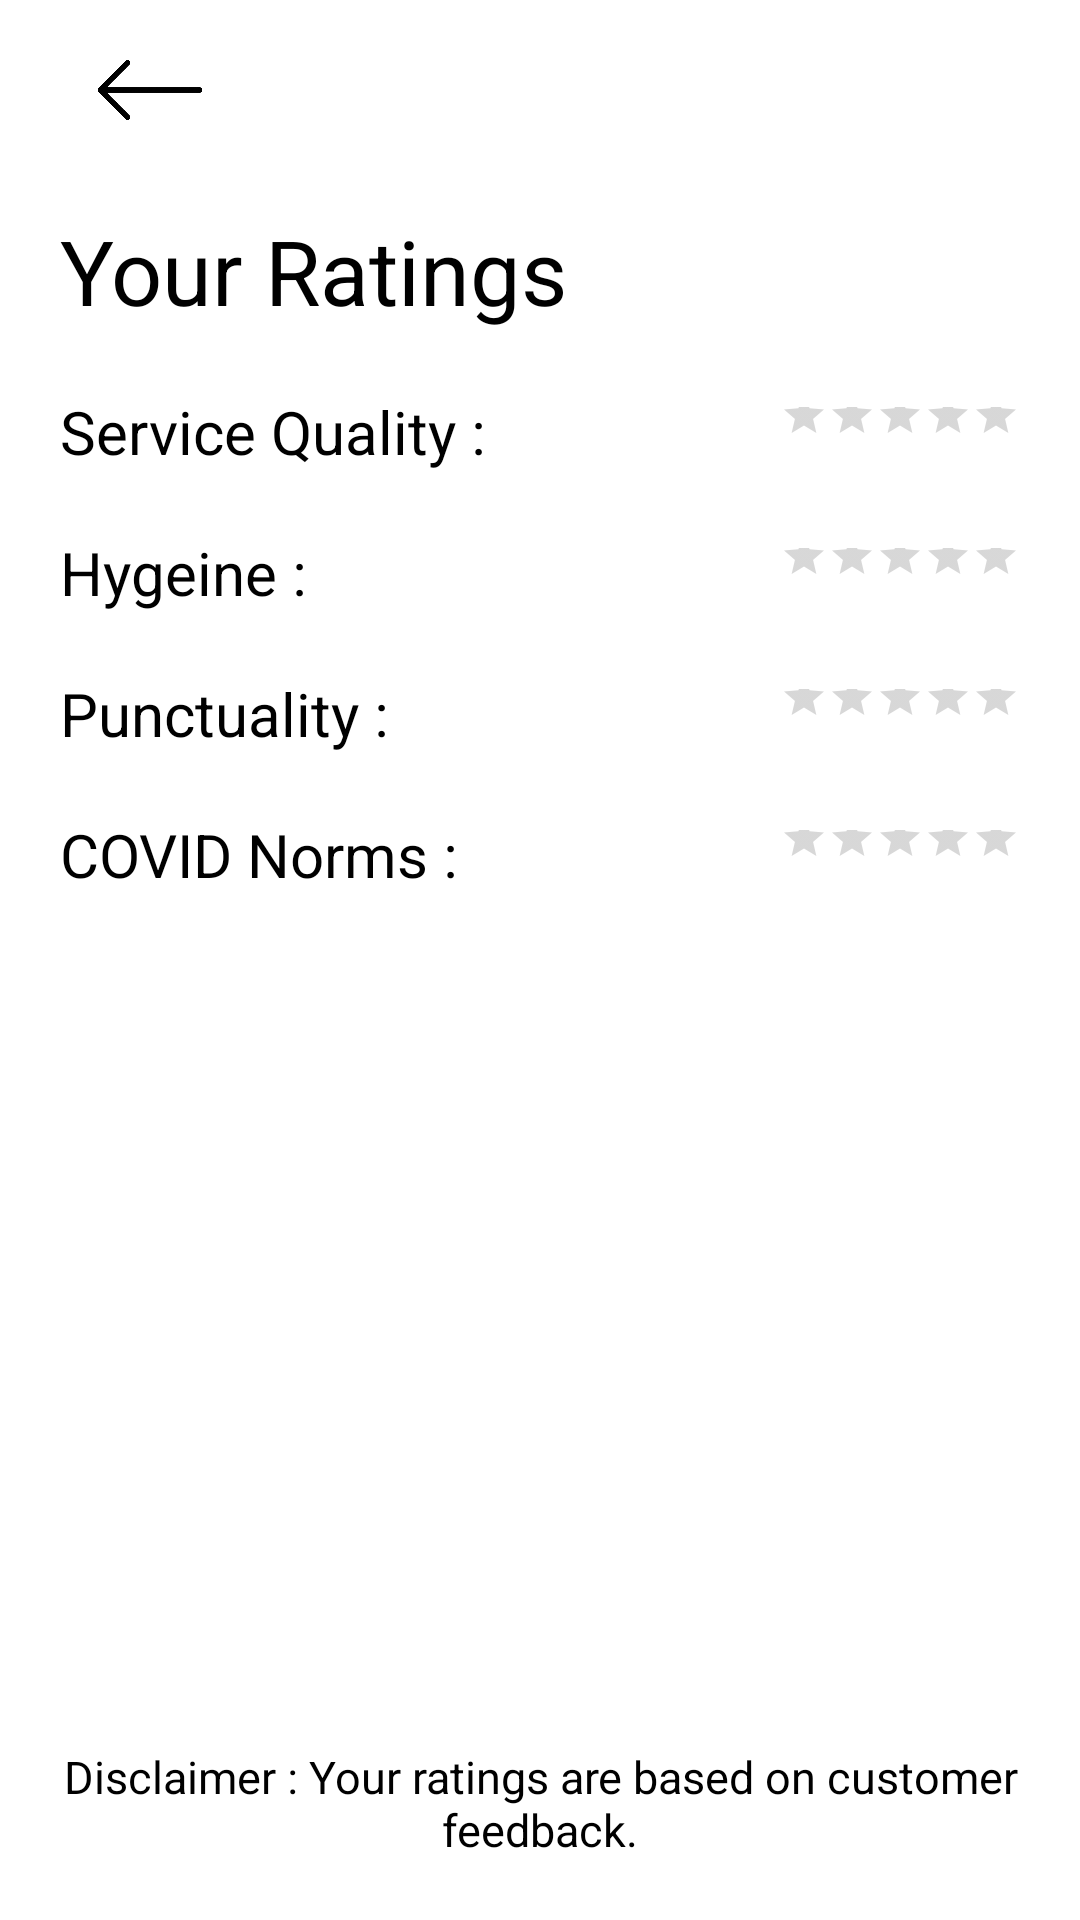

Where to tap for icons on this 1080px×1920px app screen, as (x=x, y=y):
leftarrow: (x=150, y=90)
